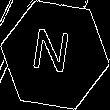N_S: (33, 27, 77, 83)
